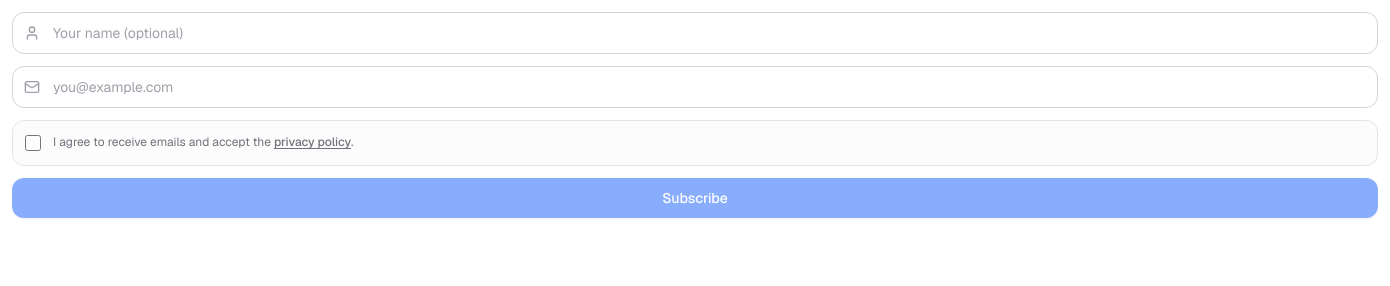
Test case: NewsletterSignupForm › form submission › shows error message on API error
Type "John" into the field with placeholder "Your name (optional)" at [695, 33], box left=12, top=12, right=1378, bottom=54
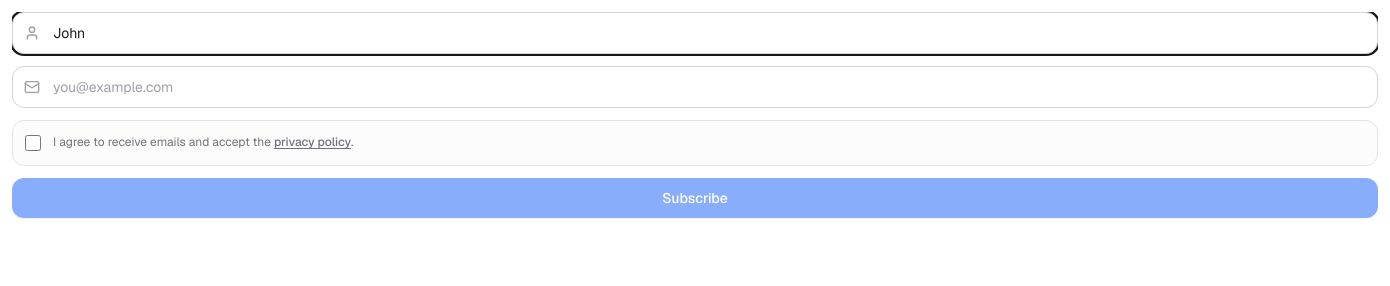
Type "invalid" into the field with placeholder "you@example.com" at [695, 87], box left=12, top=66, right=1378, bottom=108
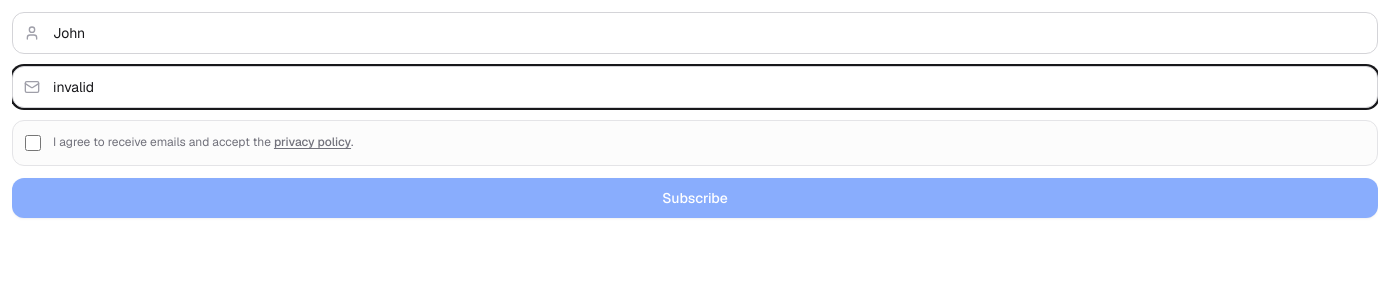
Click the checkbox at [33, 143], box left=25, top=135, right=41, bottom=151
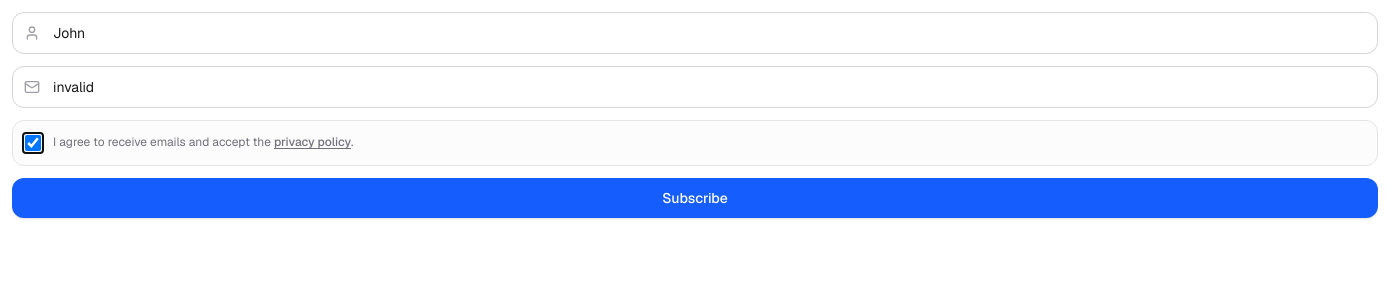
# Submit the form directly to ensure the handler is called
Submit the form
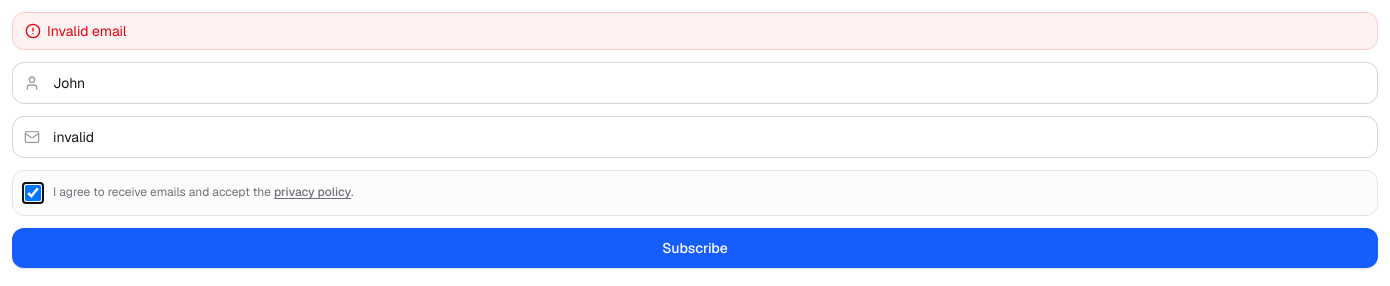
Now the message reads "Invalid email", box left=47, top=22, right=126, bottom=40
